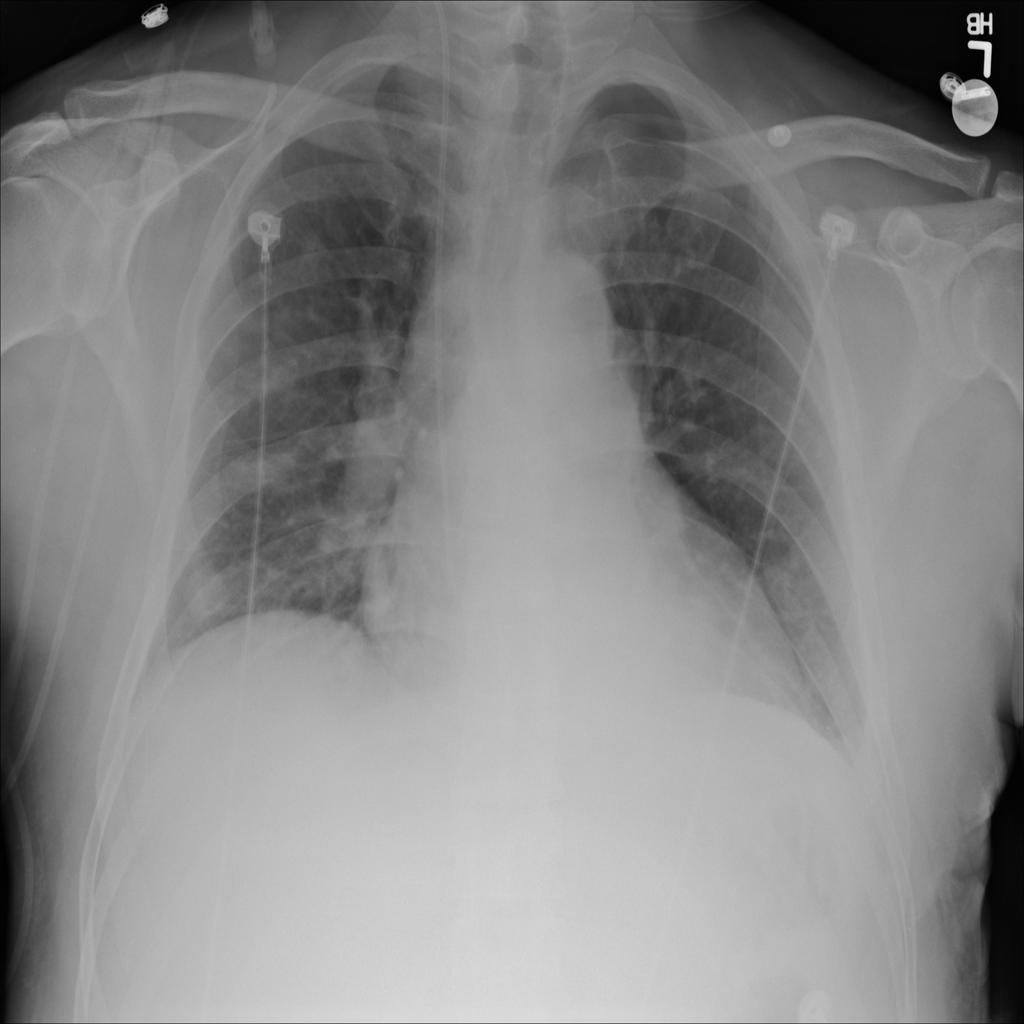nodule: (231, 431, 307, 509), (173, 552, 243, 631)
